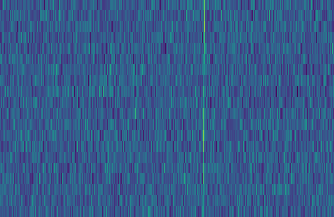signal: (198, 0, 209, 217)
